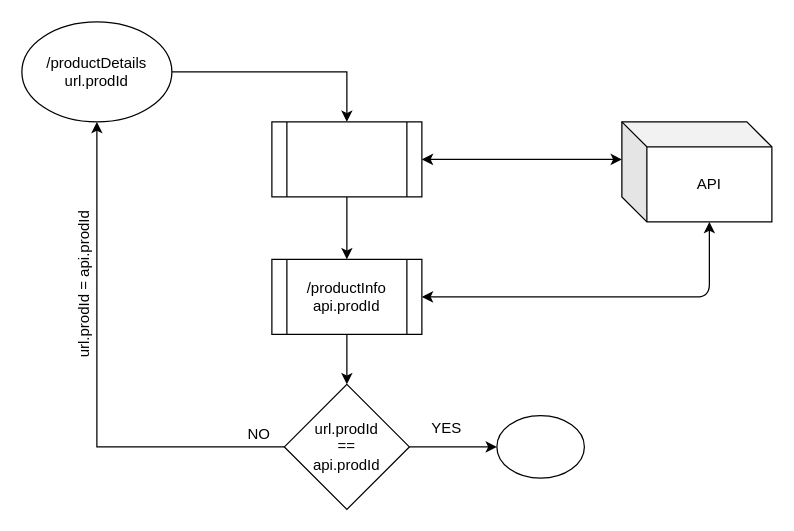
The diagram is 794 pixels wide and 531 high, and some of its shapes have lost their labels. The centre of each missing label's shape, as x and y in pixels:
"/item" goes at point 346,159.
"end" goes at point 540,446.
